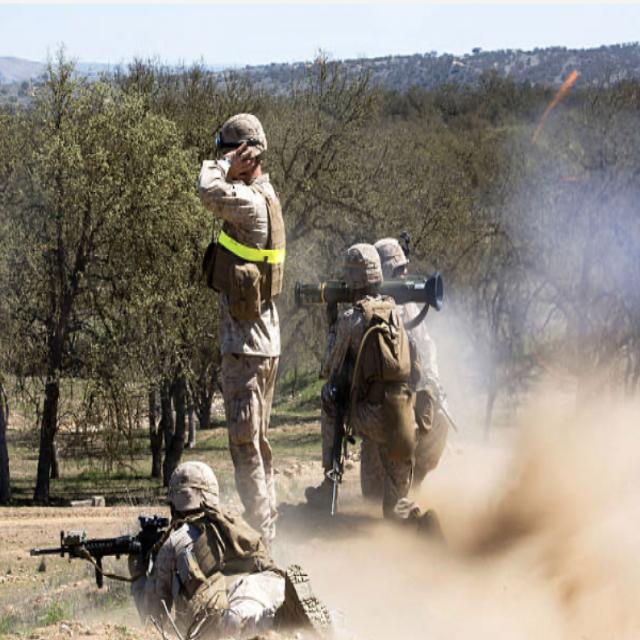bazooka: (294, 269, 444, 315)
